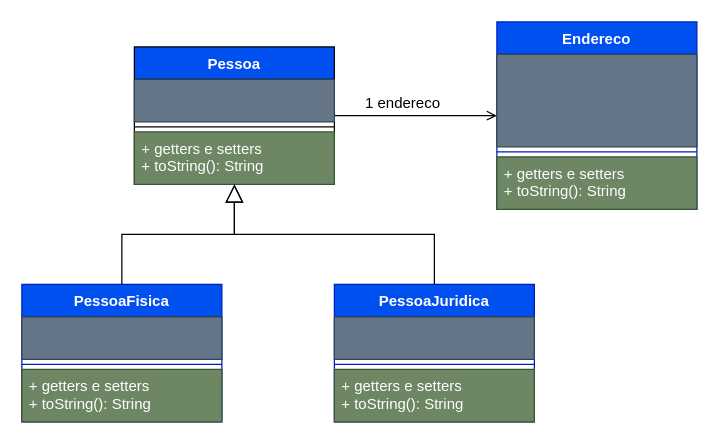
Image size: 719x448. Some labels were removed from this diagram. Each missing label, with the centre of its shape:
"- cnpj: String - razaoSocial: String" goes at point 433,337.
"- cpf: String - dataNascimento: Date" goes at point 121,337.
"- logradouro: String - numero: Number - cidade: String - uf: String" goes at point 596,100.
"- nome: String - endereco: Endereco" goes at point 233,100.
